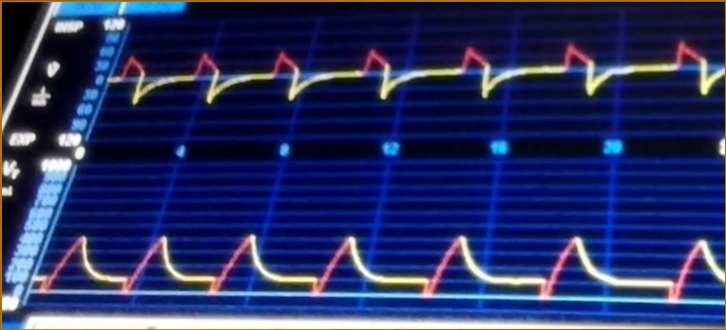Flow: (120, 27, 726, 131)
Leakage Volume: (53, 205, 726, 314)
